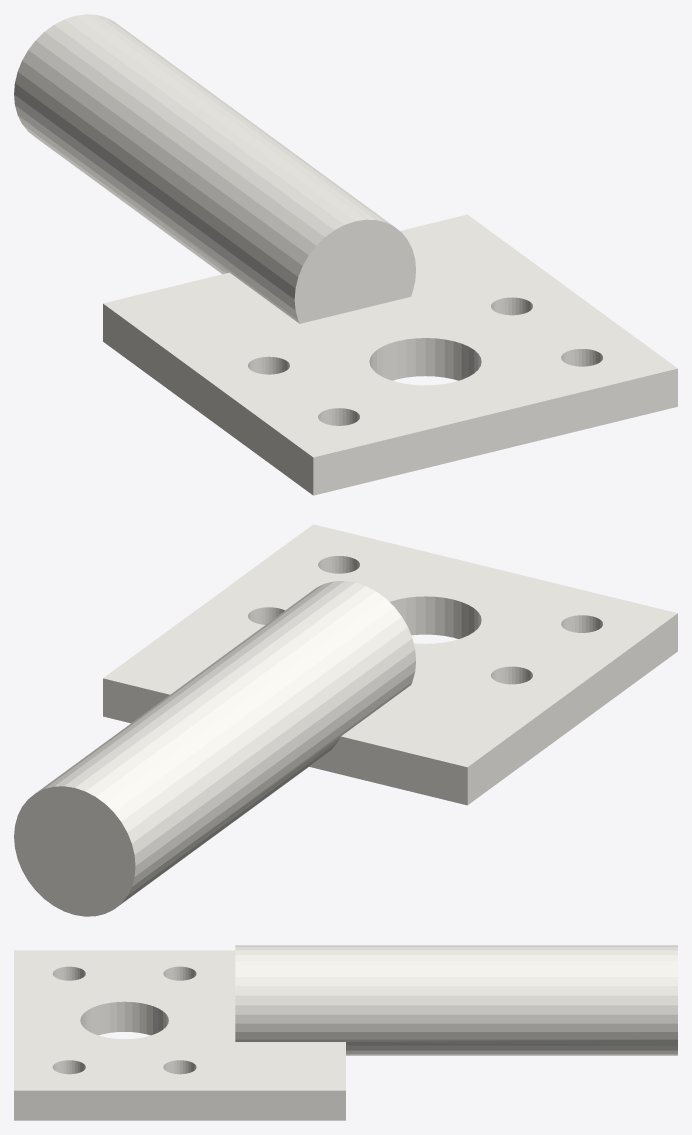
The model's file is right_rocker_link_diff_plate.dae.
3 views of the same model, one above another, from view 1: azimuth 30°, elevation 25°; view 2: azimuth 150°, elevation 25°; view 3: azimuth 270°, elevation 25° (orthographic). The views are drawn at different scales.
Parts seen in each view (by area): view 1: r_rocker_link_-_diff_link_pale_MIR-1; view 2: r_rocker_link_-_diff_link_pale_MIR-1; view 3: r_rocker_link_-_diff_link_pale_MIR-1.
Boxes of the visible parts, <box> form: r_rocker_link_-_diff_link_pale_MIR-1: <box>14,14,677,495</box>; r_rocker_link_-_diff_link_pale_MIR-1: <box>14,524,677,916</box>; r_rocker_link_-_diff_link_pale_MIR-1: <box>14,945,677,1120</box>.
Bounding box in the file's own units: 0.03 × 0.06 × 0.01.
Materials: 1 (1 with a texture image).
